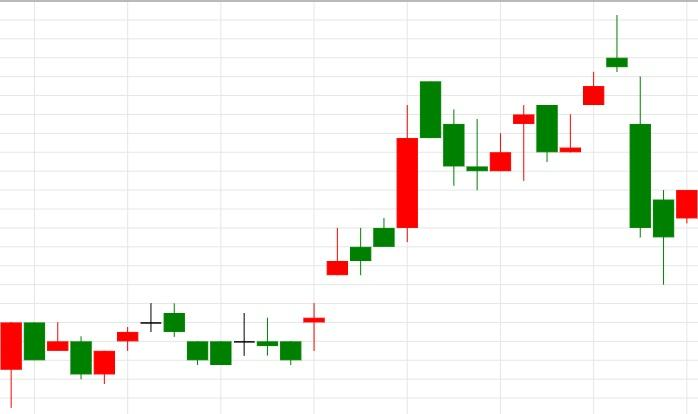morning_star_rise: (419, 81, 511, 189)
